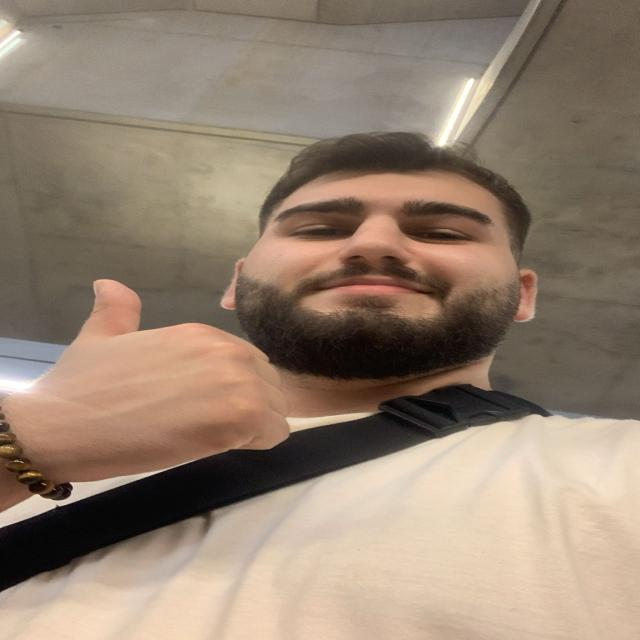Sero: (217, 126, 536, 384)
